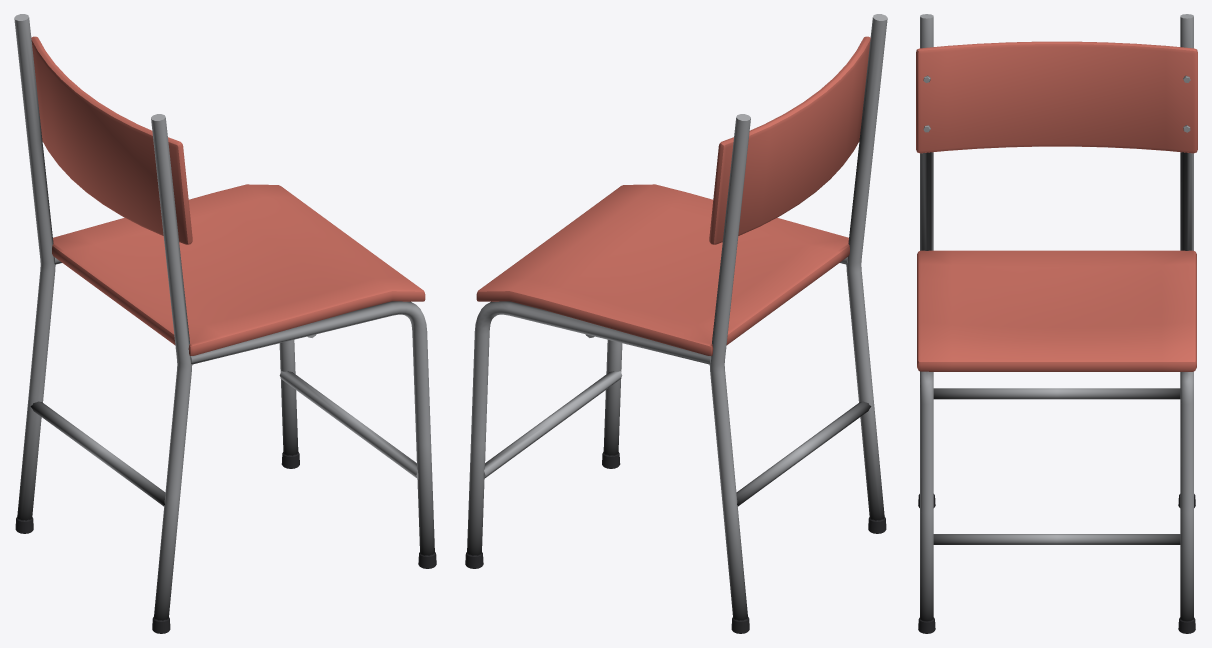
The model's file is junk_chair.glb.
The picture shows the model from 3 angles, left to right: view 1: azimuth 30°, elevation 25°; view 2: azimuth 150°, elevation 25°; view 3: azimuth 270°, elevation 25°; orthographic projection. The views are drawn at different scales.
Parts seen in each view (by area): view 1: PART; view 2: PART; view 3: PART.
Boxes of the visible parts, bbox=[...] form: PART: bbox=[14, 14, 436, 633]; PART: bbox=[465, 14, 887, 633]; PART: bbox=[916, 14, 1197, 633].
Bounding box in the file's own units: 0.4793 × 0.8312 × 0.4334.
